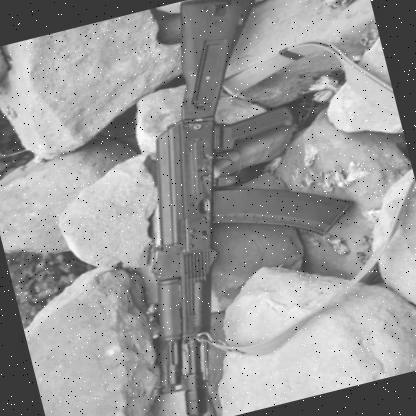rifle: (47, 0, 398, 416)
